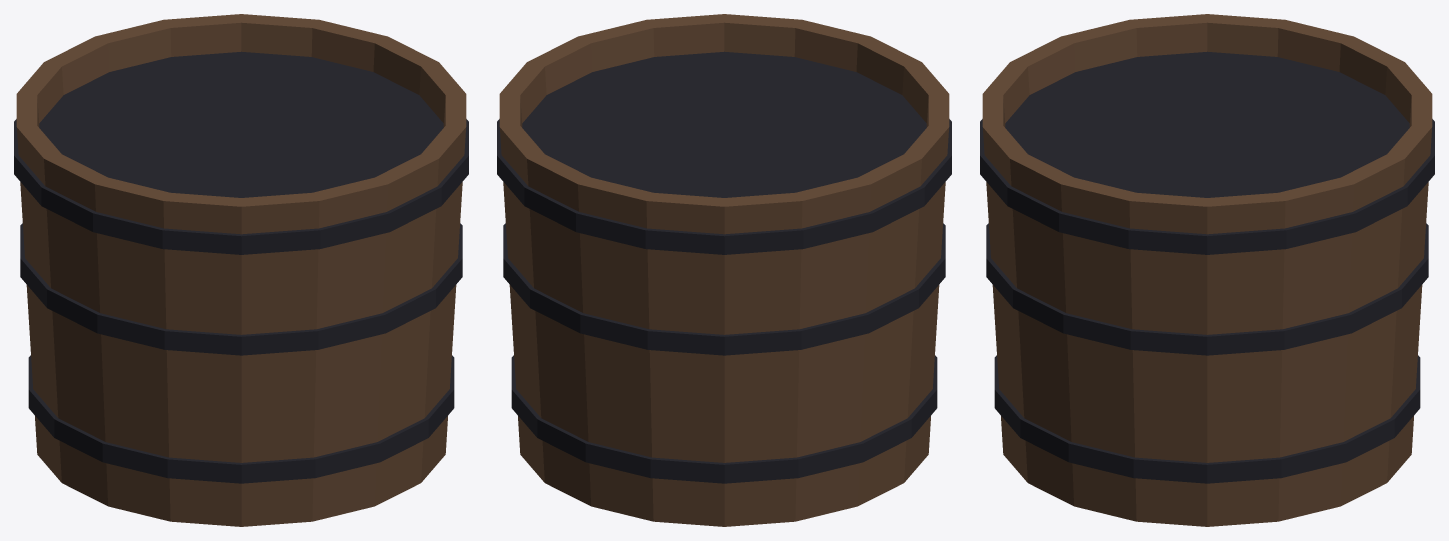
File: wine_vat.glb
The picture shows the model from 3 angles, left to right: view 1: azimuth 30°, elevation 25°; view 2: azimuth 150°, elevation 25°; view 3: azimuth 270°, elevation 25°; orthographic projection.
Visible parts, largest first — view 1: wine_vat; view 2: wine_vat; view 3: wine_vat.
Boxes of the visible parts, bbox=[...] form: wine_vat: bbox=[14, 14, 468, 526]; wine_vat: bbox=[497, 14, 951, 526]; wine_vat: bbox=[980, 14, 1434, 526].
Bounding box in the file's own units: 0.8909 × 0.7 × 0.8773.
